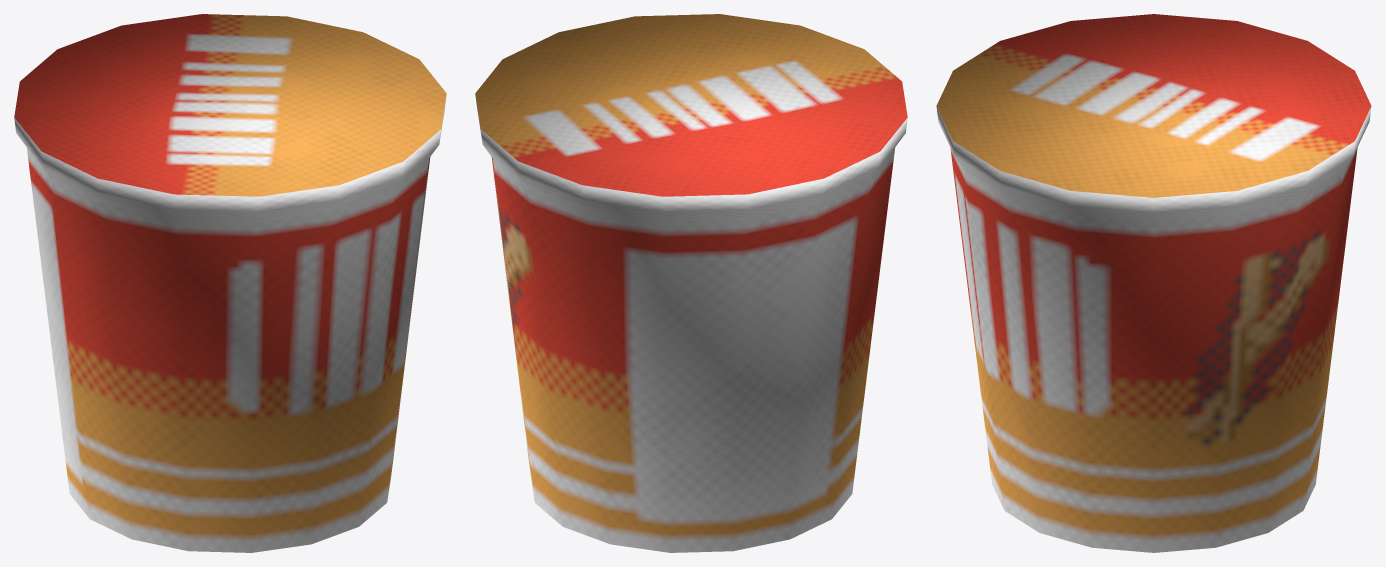
The model's file is pixelated_cup_noodle_texture_fixed.glb.
3 renders of one model, left to right at view 1: azimuth 30°, elevation 25°; view 2: azimuth 150°, elevation 25°; view 3: azimuth 270°, elevation 25°, orthographic.
Visible parts, largest first — view 1: cup_ramen; view 2: cup_ramen; view 3: cup_ramen.
Boxes of the visible parts, x1,y1,x2,y2 form: cup_ramen: (14, 14, 446, 552); cup_ramen: (475, 14, 907, 552); cup_ramen: (936, 14, 1371, 552).
Bounding box in the file's own units: 2.08 × 2 × 2.08.
1 material, 1 textured.
